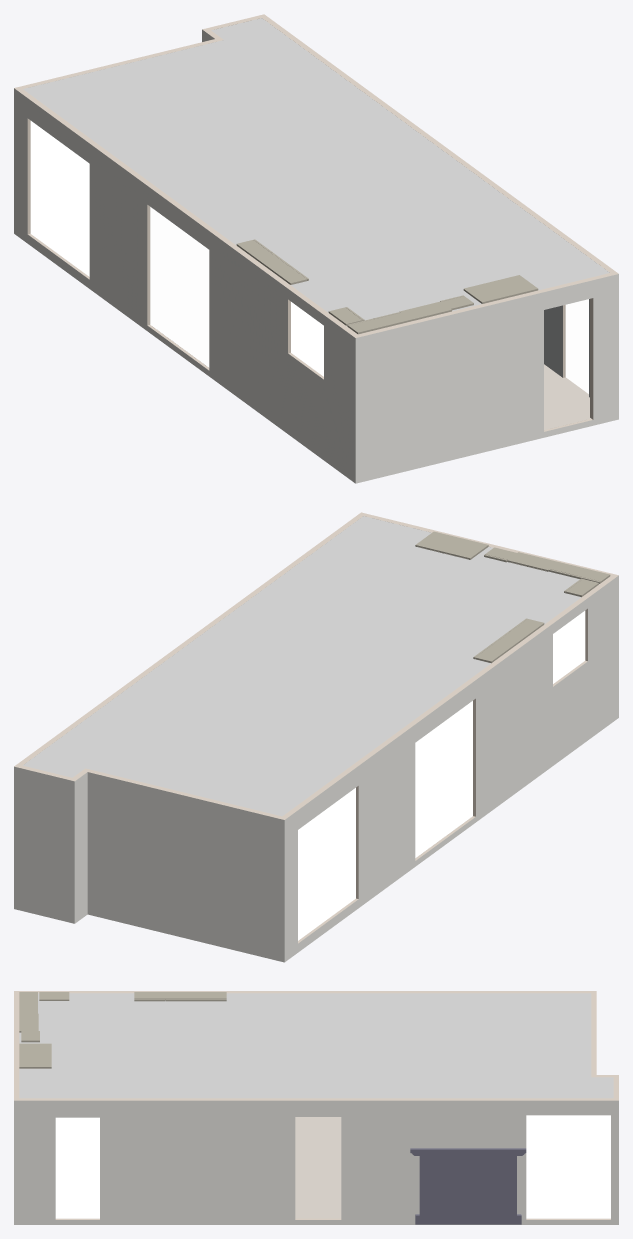
Rendered from 2026-11-06_scan5.glb.
The picture shows the model from 3 angles, top to bottom: view 1: azimuth 30°, elevation 25°; view 2: azimuth 150°, elevation 25°; view 3: azimuth 270°, elevation 25°; orthographic projection. The views are drawn at different scales.
Visible parts, largest first — view 1: Ceiling_Living_Room, Ceiling_Kitchen, Wall_3, Wall_0, Door_2, Window_1, Wall_1, Floor_Kitchen, Door_0, Window_0, storage_cabinet_low2_0, storage_cabinet_mid3_1 (+2 smaller); view 2: Ceiling_Living_Room, Ceiling_Kitchen, Wall_3, Wall_4, Wall_2, Door_2, Window_1, Wall_1, Wall_5, Window_0, storage_cabinet_low2_0, storage_cabinet_mid3_1 (+2 smaller); view 3: Wall_1, Ceiling_Living_Room, Ceiling_Kitchen, Door_1, fireplace_0, Door_0, Floor_Living_Room, Wall_3, Floor_Kitchen, storage_cabinet_mid3_1, storage_cabinet_low2_0, Wall_0 (+3 smaller).
Boxes of the visible parts, <box> form: Ceiling_Living_Room: <box>23,18,442,211</box>; Ceiling_Kitchen: <box>191,151,609,326</box>; Wall_3: <box>14,88,357,483</box>; Wall_0: <box>355,273,618,483</box>; Door_2: <box>150,207,209,367</box>; Window_1: <box>30,121,89,276</box>; Wall_1: <box>262,14,618,397</box>; Floor_Kitchen: <box>200,361,590,430</box>; Door_0: <box>565,299,588,393</box>; Window_0: <box>291,302,323,376</box>; storage_cabinet_low2_0: <box>463,275,538,303</box>; storage_cabinet_mid3_1: <box>236,239,308,284</box>; Ceiling_Living_Room: <box>23,636,446,816</box>; Ceiling_Kitchen: <box>200,516,599,695</box>; Wall_3: <box>282,575,618,961</box>; Wall_4: <box>85,768,284,962</box>; Wall_2: <box>14,765,74,923</box>; Door_2: <box>415,701,472,857</box>; Window_1: <box>298,788,355,940</box>; Wall_1: <box>14,512,362,766</box>; Wall_5: <box>73,768,87,923</box>; Window_0: <box>553,611,585,683</box>; storage_cabinet_low2_0: <box>415,531,488,559</box>; storage_cabinet_mid3_1: <box>473,618,544,663</box>; Wall_1: <box>14,1098,618,1224</box>; Ceiling_Living_Room: <box>304,993,613,1098</box>; Ceiling_Kitchen: <box>19,993,304,1098</box>; Door_1: <box>526,1115,610,1218</box>; fireplace_0: <box>410,1148,526,1224</box>; Door_0: <box>55,1117,99,1218</box>; Floor_Living_Room: <box>304,1117,341,1218</box>; Wall_3: <box>14,991,596,993</box>; Floor_Kitchen: <box>295,1117,304,1218</box>; storage_cabinet_mid3_1: <box>134,992,226,1001</box>; storage_cabinet_low2_0: <box>19,1043,51,1068</box>; Wall_0: <box>14,991,19,1100</box>.
Size of the model in its own units: 4.79 by 2.53 by 11.04.
26 materials, 3 textured.
